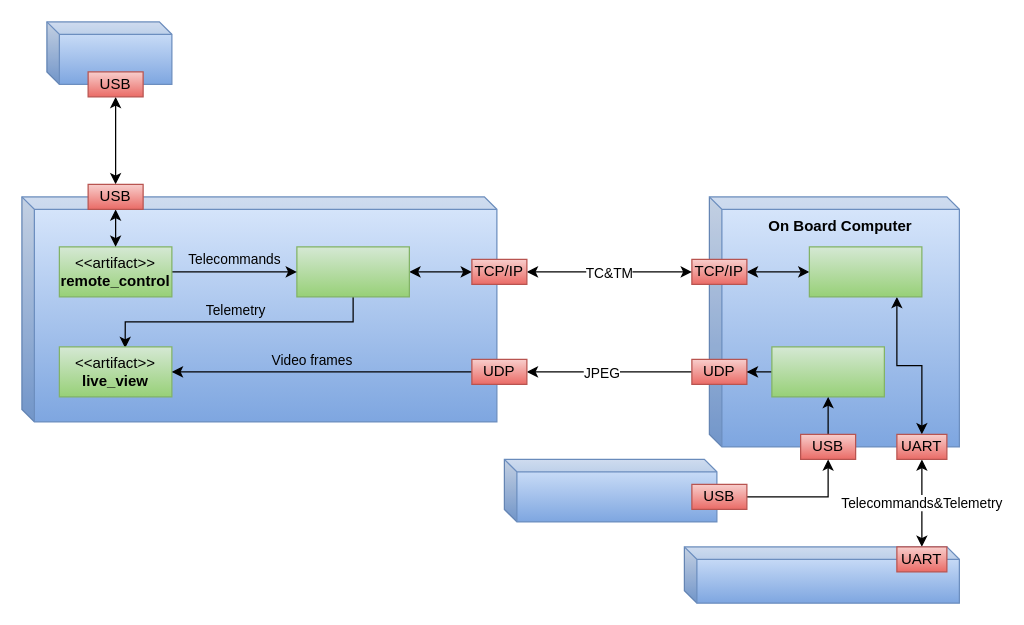
This 1024x625 diagram has some shape labels left out. Here are the shapes that lost their labels. From the top down, the box of each, then its label:
(46, 21, 172, 84): PS4 Controller
(296, 246, 409, 297): <<artifact>> roverclient
(808, 246, 922, 297): <<artifact>> bridge
(21, 196, 497, 422): Ground Control Station
(771, 346, 884, 397): <<artifact>> gstreamer
(503, 458, 717, 522): USB Web Camera
(683, 546, 959, 603): Controller Board
